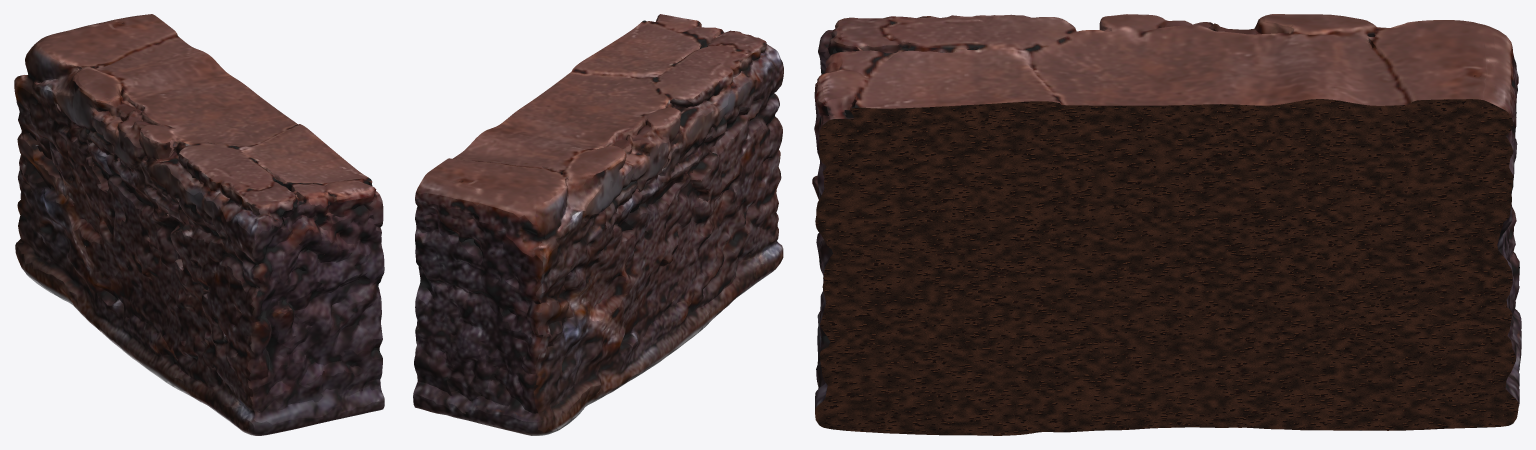
3 renders of one model, left to right at view 1: azimuth 30°, elevation 25°; view 2: azimuth 150°, elevation 25°; view 3: azimuth 270°, elevation 25°, orthographic. The views are drawn at different scales.
Parts seen in each view (by area): view 1: brownie-physical-calibration-80x35x65mm; view 2: brownie-physical-calibration-80x35x65mm; view 3: brownie-physical-calibration-80x35x65mm.
Boxes of the visible parts, x1,y1,x2,y2 form: brownie-physical-calibration-80x35x65mm: [14, 14, 384, 435]; brownie-physical-calibration-80x35x65mm: [413, 14, 783, 435]; brownie-physical-calibration-80x35x65mm: [812, 14, 1521, 435].
Bounding box in the file's own units: 0.02 × 0.0346 × 0.0648.
Materials: 2 (2 with a texture image).
